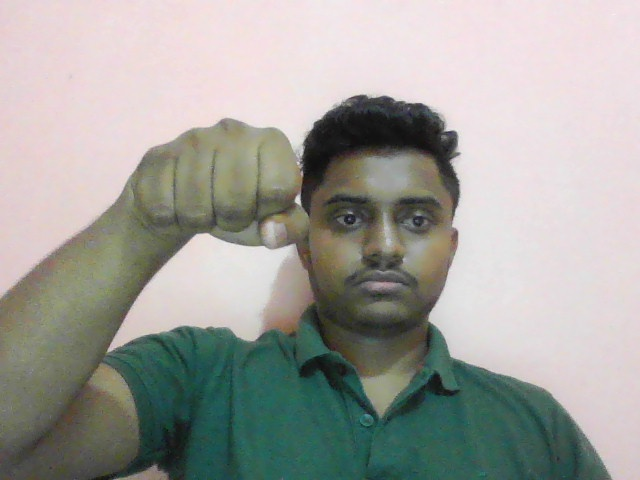Yes: (122, 108, 321, 267)
